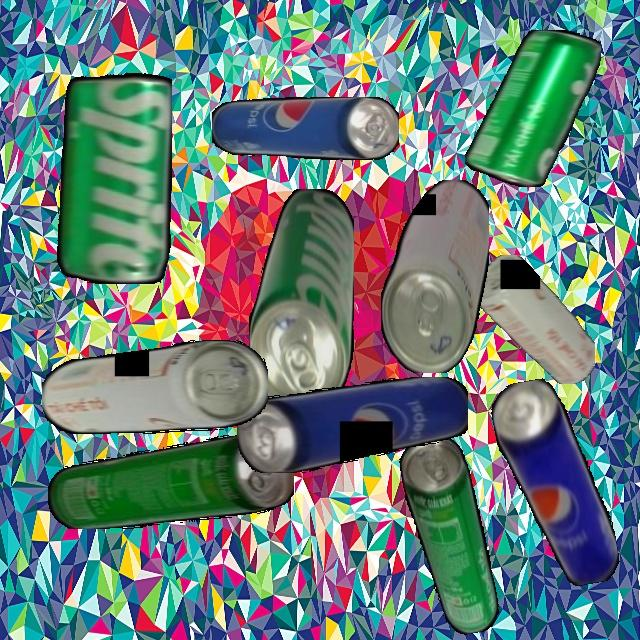debris: (20, 72, 172, 284), (488, 371, 622, 595), (248, 188, 354, 412), (47, 435, 294, 529), (237, 376, 468, 473), (396, 431, 502, 640), (464, 30, 601, 187), (41, 340, 268, 434), (380, 179, 489, 373), (473, 255, 595, 384), (211, 97, 399, 160)
